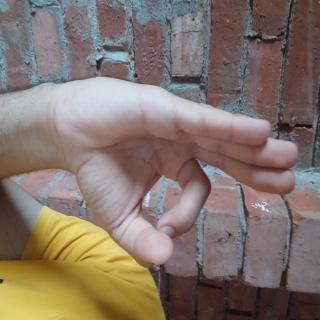Space: (47, 16, 199, 320)
